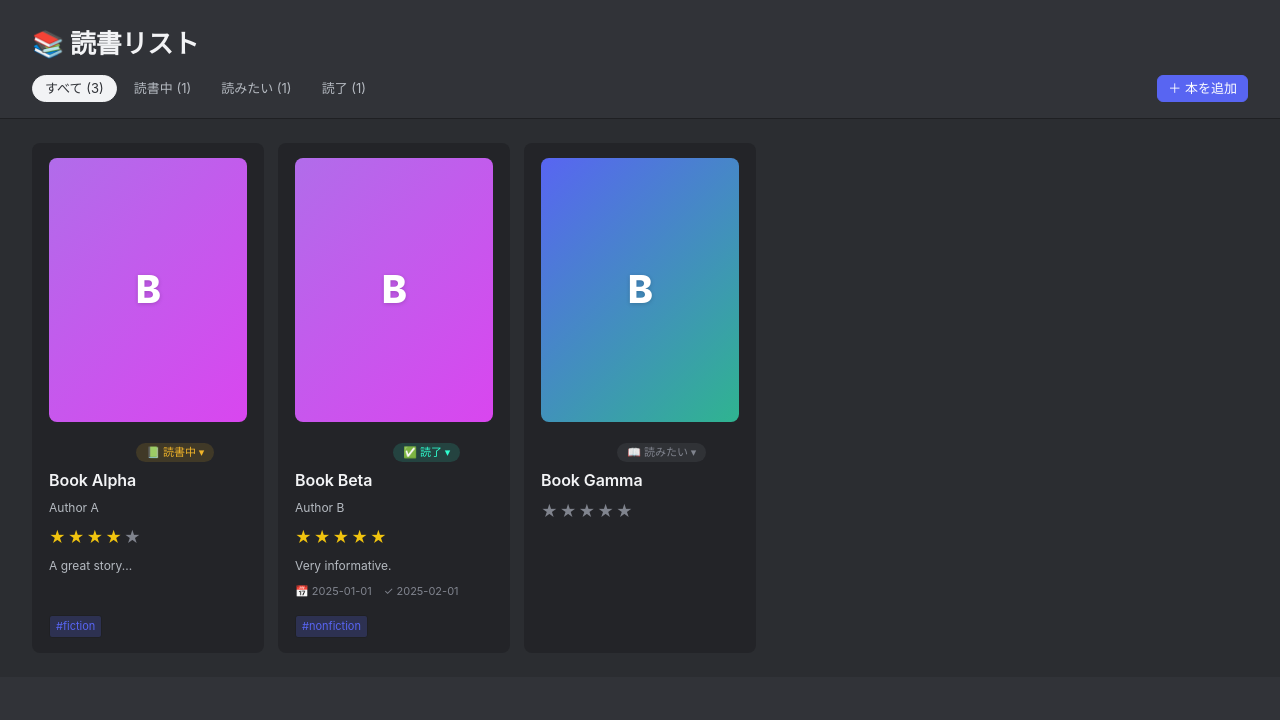
Test: BooksView › opens status dropdown
Expected: the text "Book Alpha" is shown, [49, 470, 136, 490]
Click the button "📗 読書中 ▾": (175, 452) [136, 443, 214, 462]
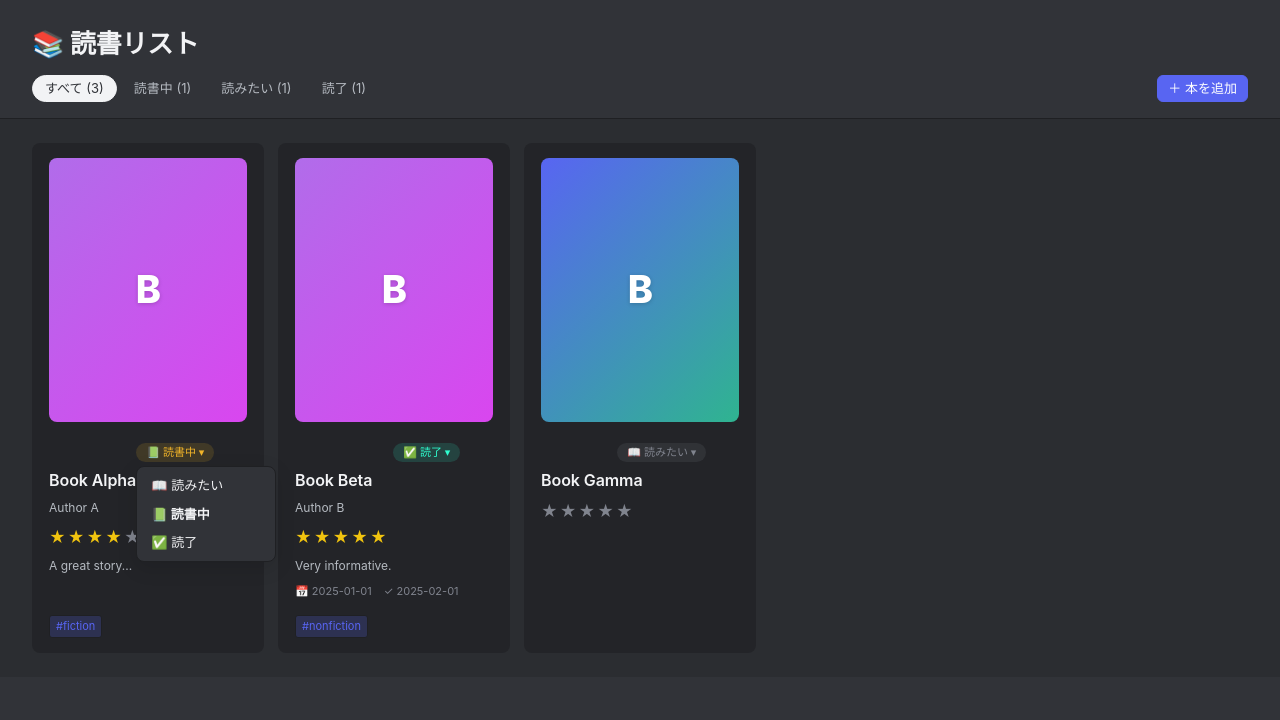
Result: the number of menu items is 3 at [141, 471, 271, 500]; [141, 500, 271, 528]; [141, 528, 271, 557]
